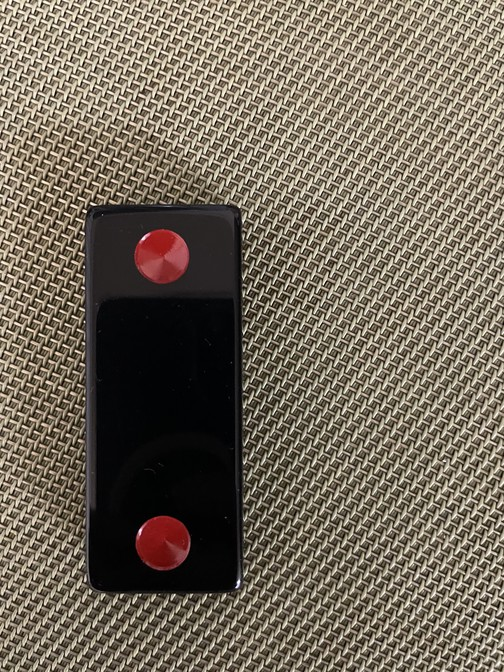earth: (85, 204, 241, 594)
